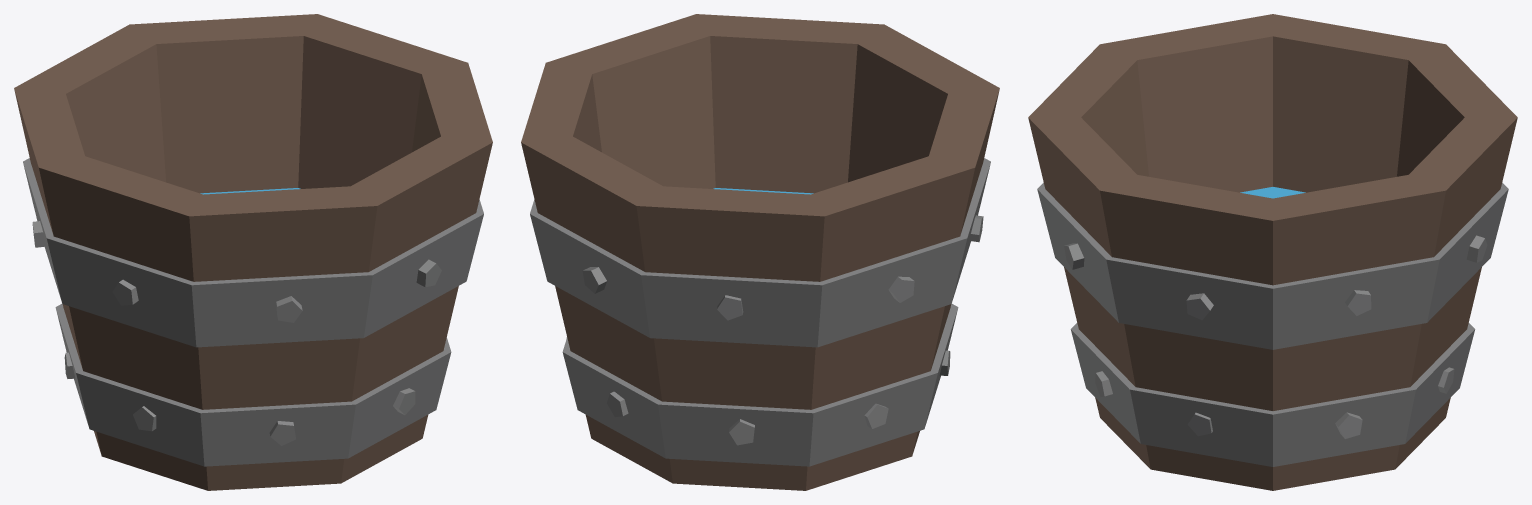
File: bucket_Half_Greybox.fbx
3 views of the same model, side by side, from view 1: azimuth 30°, elevation 25°; view 2: azimuth 150°, elevation 25°; view 3: azimuth 270°, elevation 25° (orthographic).
Visible parts, largest first — view 1: Bucket_Half; view 2: Bucket_Half; view 3: Bucket_Half.
Part boxes in pixels (box(x1,y1,x2,y2)): Bucket_Half: box(14, 14, 492, 490); Bucket_Half: box(521, 14, 999, 490); Bucket_Half: box(1028, 14, 1517, 490).
Size of the model in its own units: 0.9898 by 0.6701 by 0.9898.
